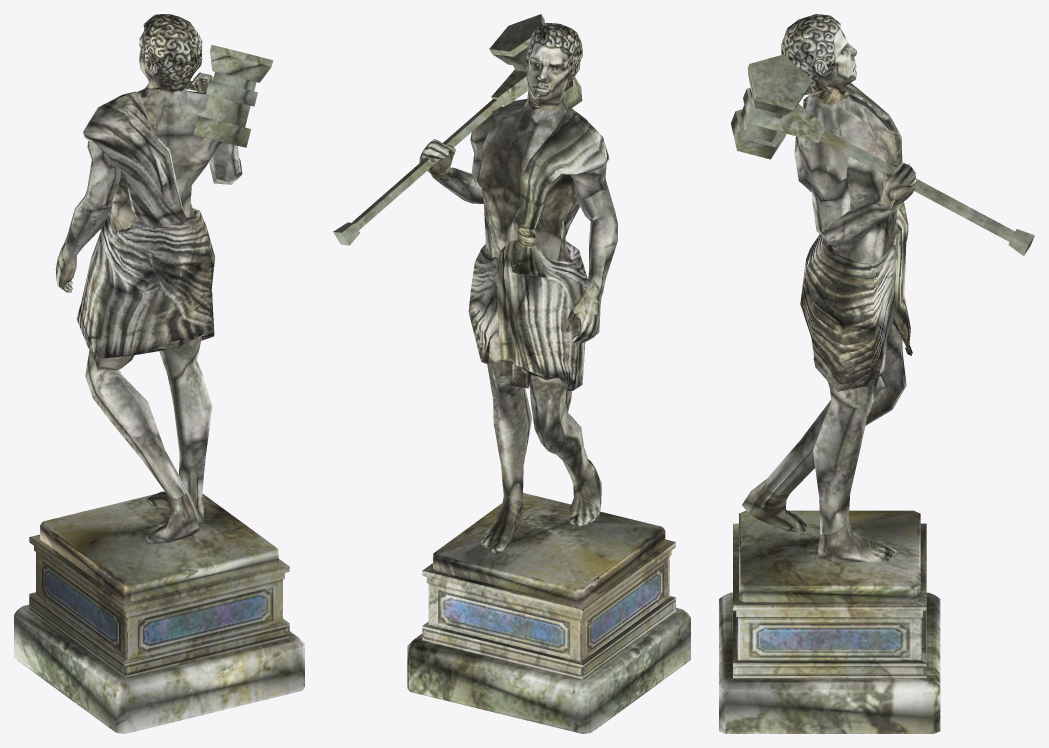
The model's file is poe-statue-moai.glb.
3 renders of one model, left to right at view 1: azimuth 30°, elevation 25°; view 2: azimuth 150°, elevation 25°; view 3: azimuth 270°, elevation 25°, orthographic. The views are drawn at different scales.
Visible parts, largest first — view 1: poe-statue-moai_mesh; view 2: poe-statue-moai_mesh; view 3: poe-statue-moai_mesh.
Boxes of the visible parts, x1,y1,x2,y2 form: poe-statue-moai_mesh: (14,14,304,733); poe-statue-moai_mesh: (333,14,690,733); poe-statue-moai_mesh: (719,14,1034,733).
Bounding box in the file's own units: 0.8504 × 2.46 × 1.05.
Materials: 2 (2 with a texture image).
